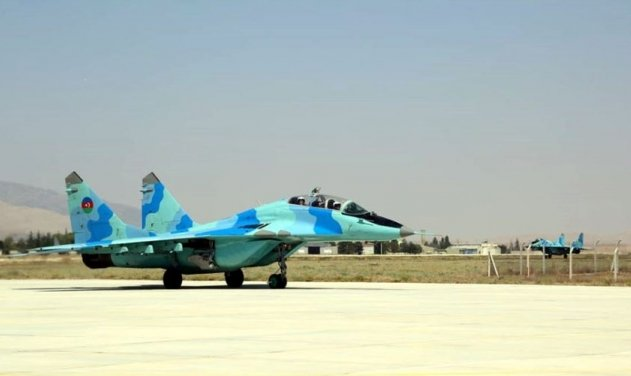Mig-29: (40, 164, 422, 288), (523, 222, 594, 264)
